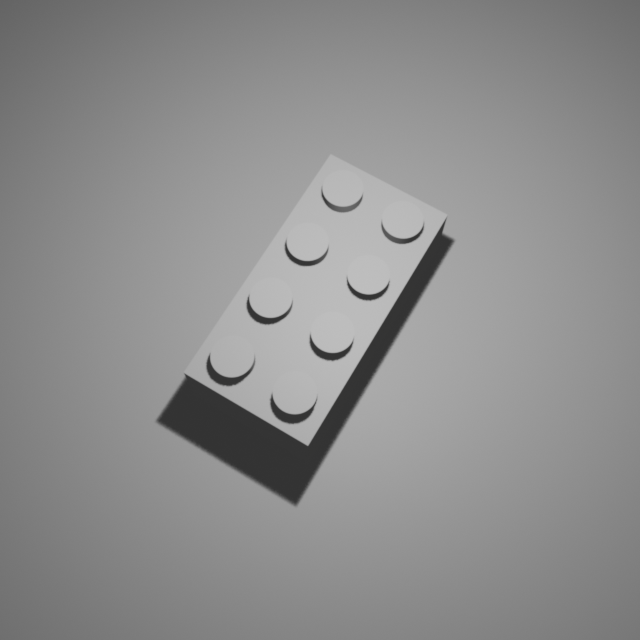lego_2x4: (181, 147, 450, 463)
